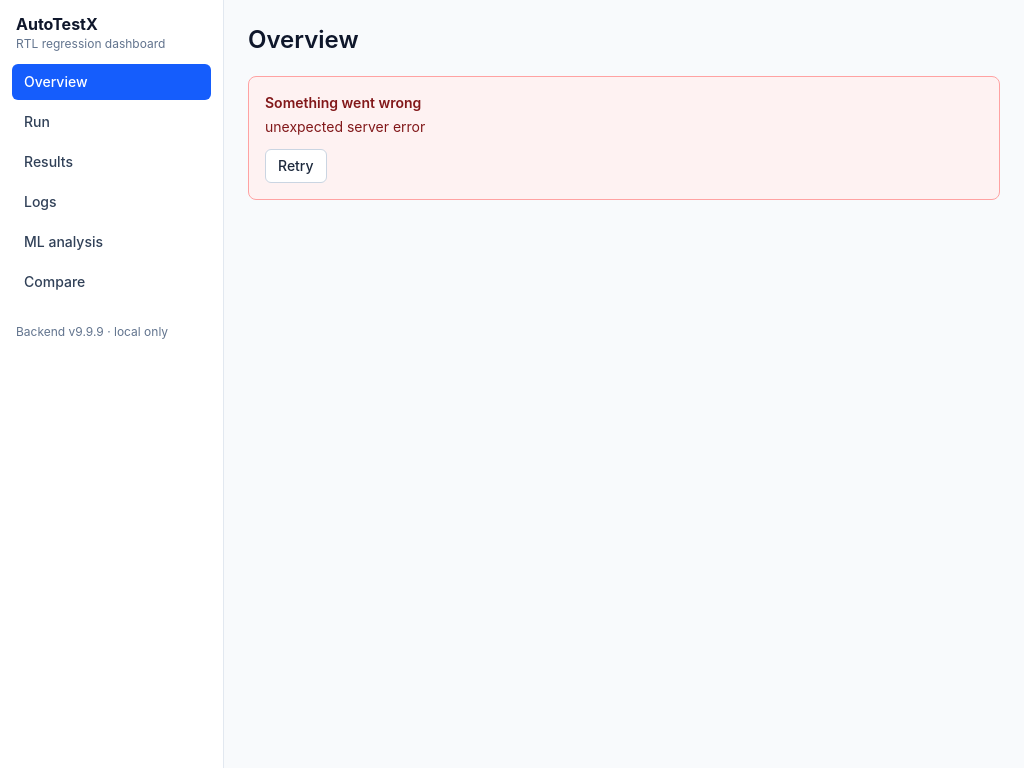
Scenario: Overview › shows an actionable error and retries
Expected: the message shows "unexpected server error", [265,118,425,135]
Click the button "Retry" at (296, 166), box [265,149,327,183]
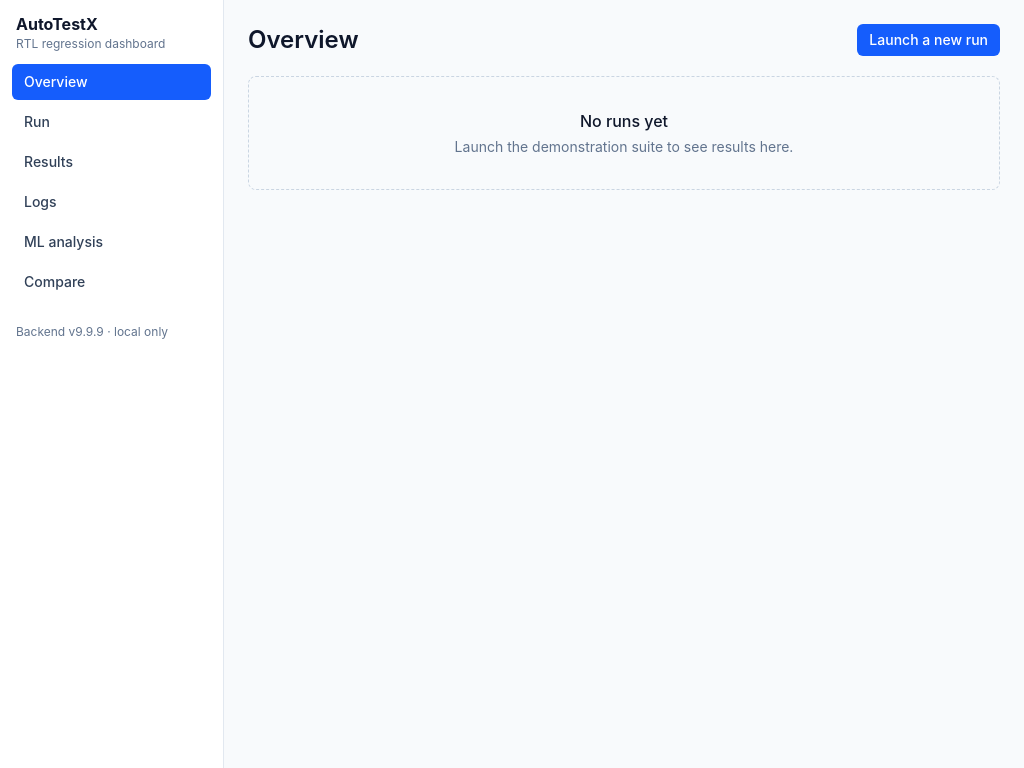
Expected: the text "No runs yet" is shown, [580,111,668,131]
